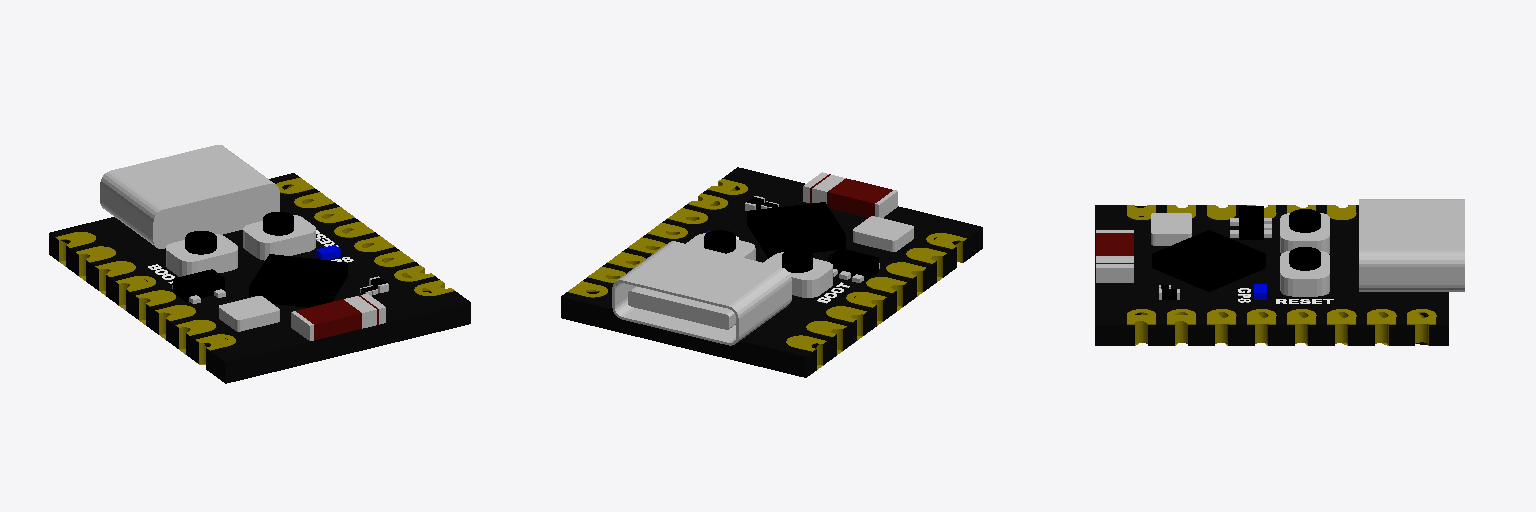
Rendered from ESP32-C3_super_mini.obj.
3 renders of one model, left to right at view 1: azimuth 30°, elevation 25°; view 2: azimuth 150°, elevation 25°; view 3: azimuth 270°, elevation 25°, orthographic.
Parts seen in each view (by area): view 1: PCB; view 2: PCB; view 3: PCB.
Boxes of the visible parts, box(x1,y1,x2,y2) form: PCB: box(49, 145, 470, 383); PCB: box(561, 167, 982, 377); PCB: box(1095, 199, 1464, 345).
Bounding box in the file's own units: 18 × 4.27 × 23.5.